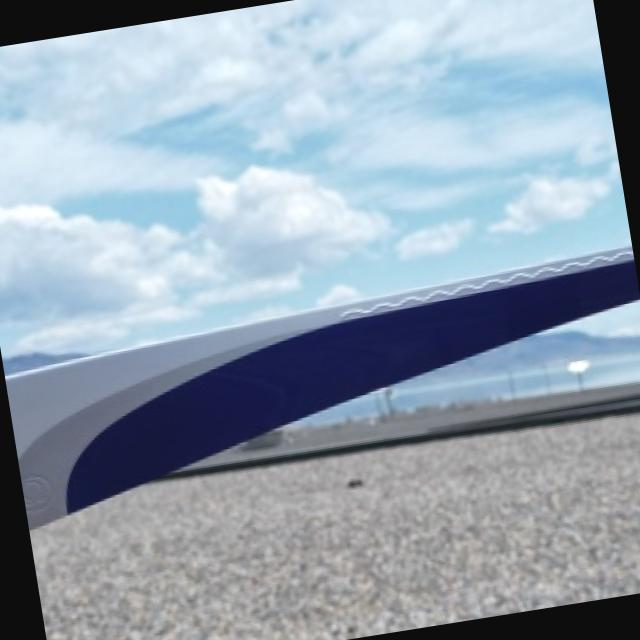healthy: (7, 245, 640, 528)
